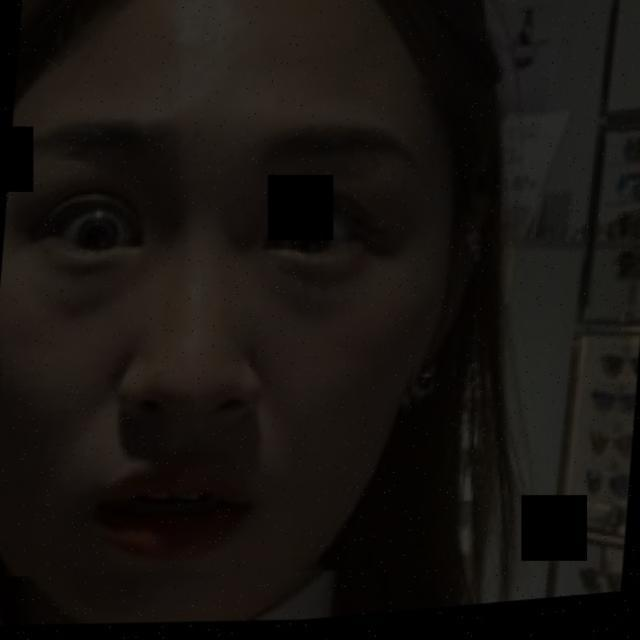Surprised: (10, 50, 482, 610)
